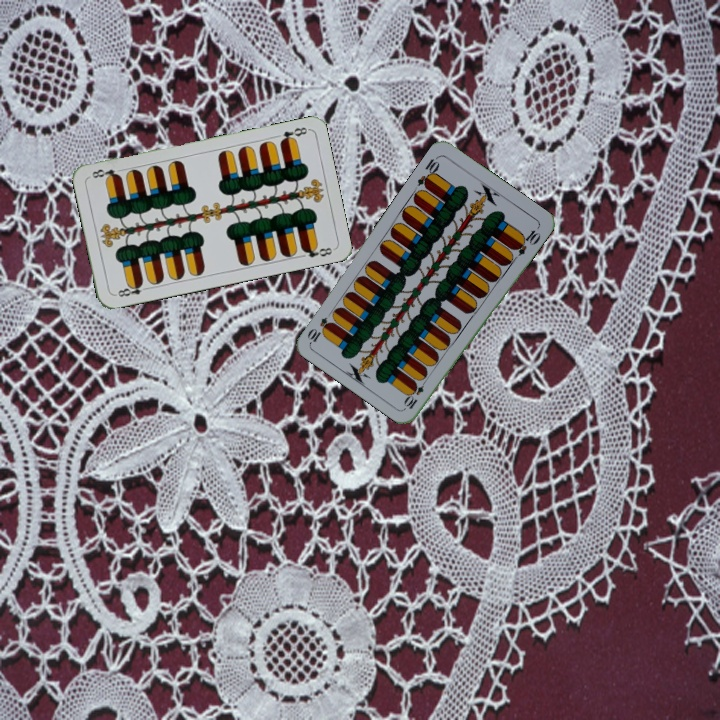E10: (413, 152, 442, 191), (401, 374, 430, 412)
E8: (111, 278, 151, 300), (276, 123, 311, 146)
